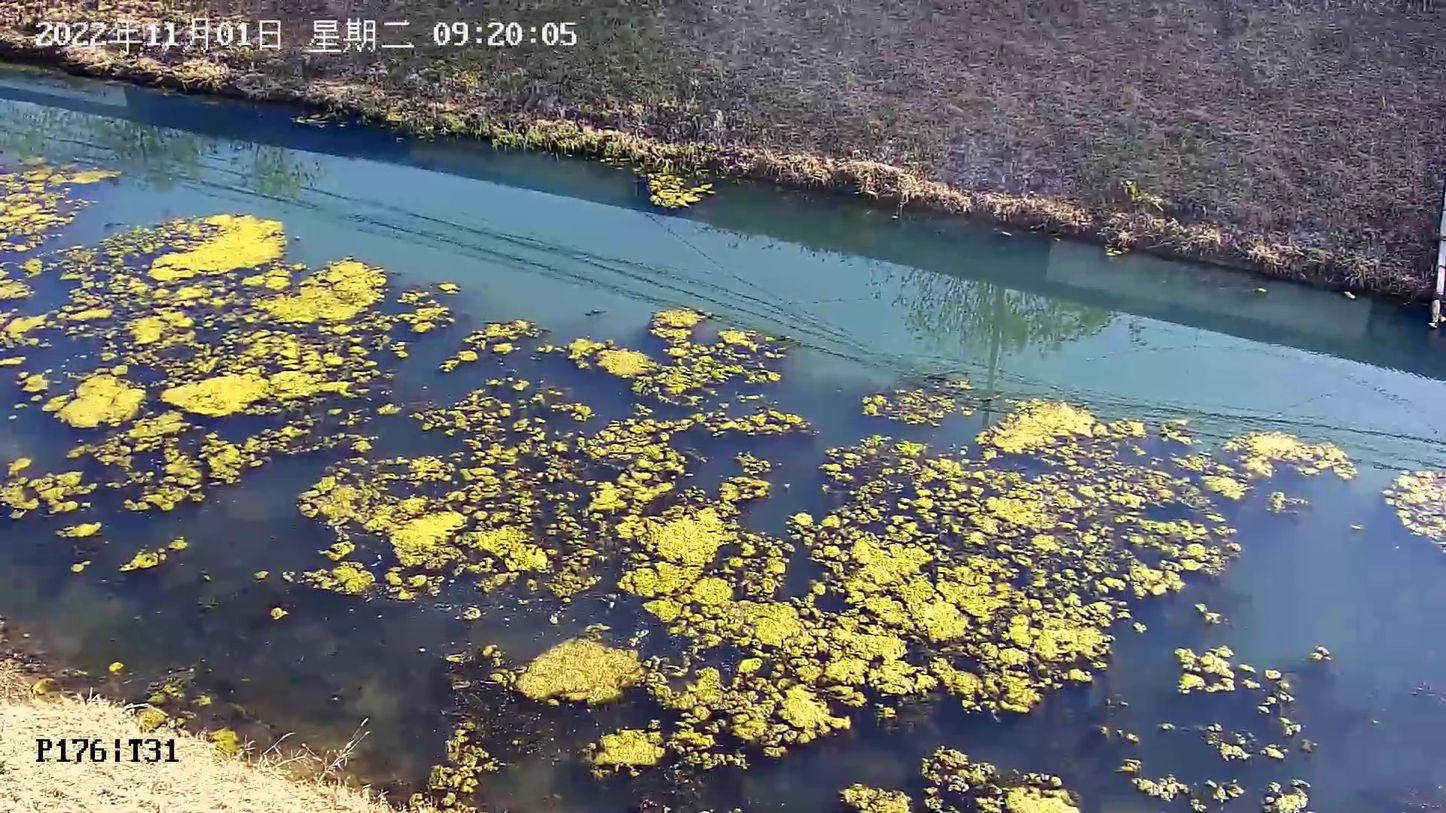floater: (291, 308, 1355, 775), (297, 455, 548, 605), (565, 308, 786, 406), (159, 327, 356, 419), (105, 414, 240, 512), (1, 160, 119, 252), (975, 393, 1147, 456), (920, 747, 1078, 813), (149, 211, 288, 284), (512, 635, 645, 708), (257, 256, 385, 324), (39, 368, 146, 431), (1, 457, 99, 519), (1381, 468, 1446, 547), (120, 306, 194, 366), (1176, 644, 1238, 699), (644, 169, 713, 211), (1123, 760, 1189, 802), (838, 779, 911, 813), (1, 312, 53, 354), (1258, 774, 1312, 813), (1, 257, 44, 301), (120, 544, 166, 577)
